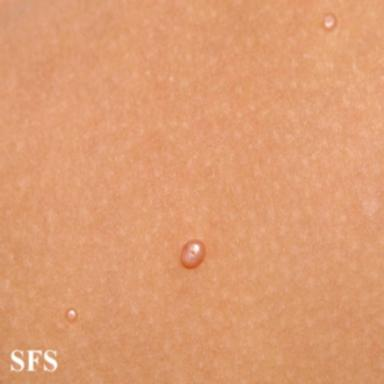Molluscum-Contagiosum: (181, 240, 205, 268), (323, 14, 336, 30), (65, 308, 78, 322)
